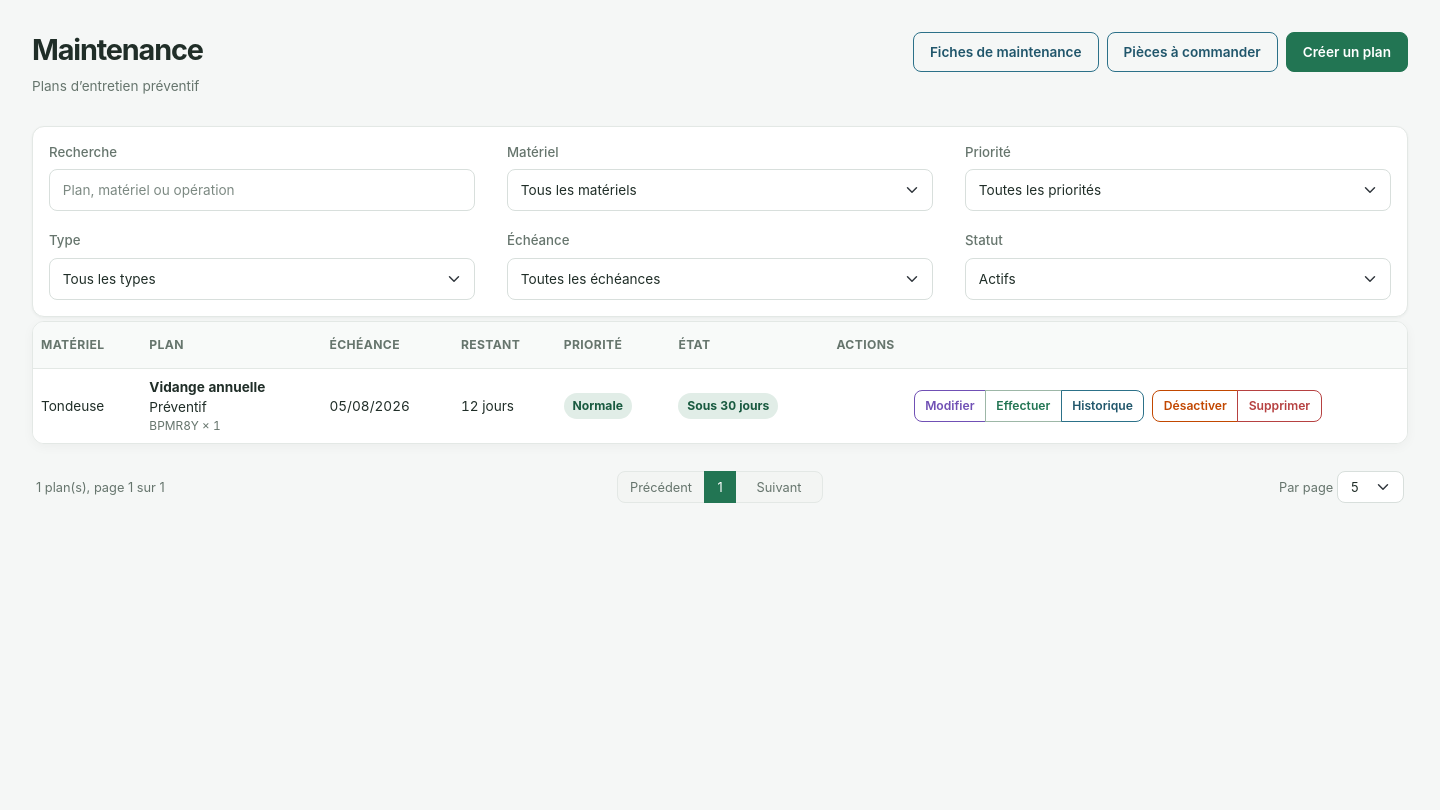
it: MaintenancePage › shows distinct supplier references when creating and editing a plan
The width and height of the screenshot is (1440, 810).
Click the button "Créer un plan" at (1347, 52), box [1286,32,1408,72]
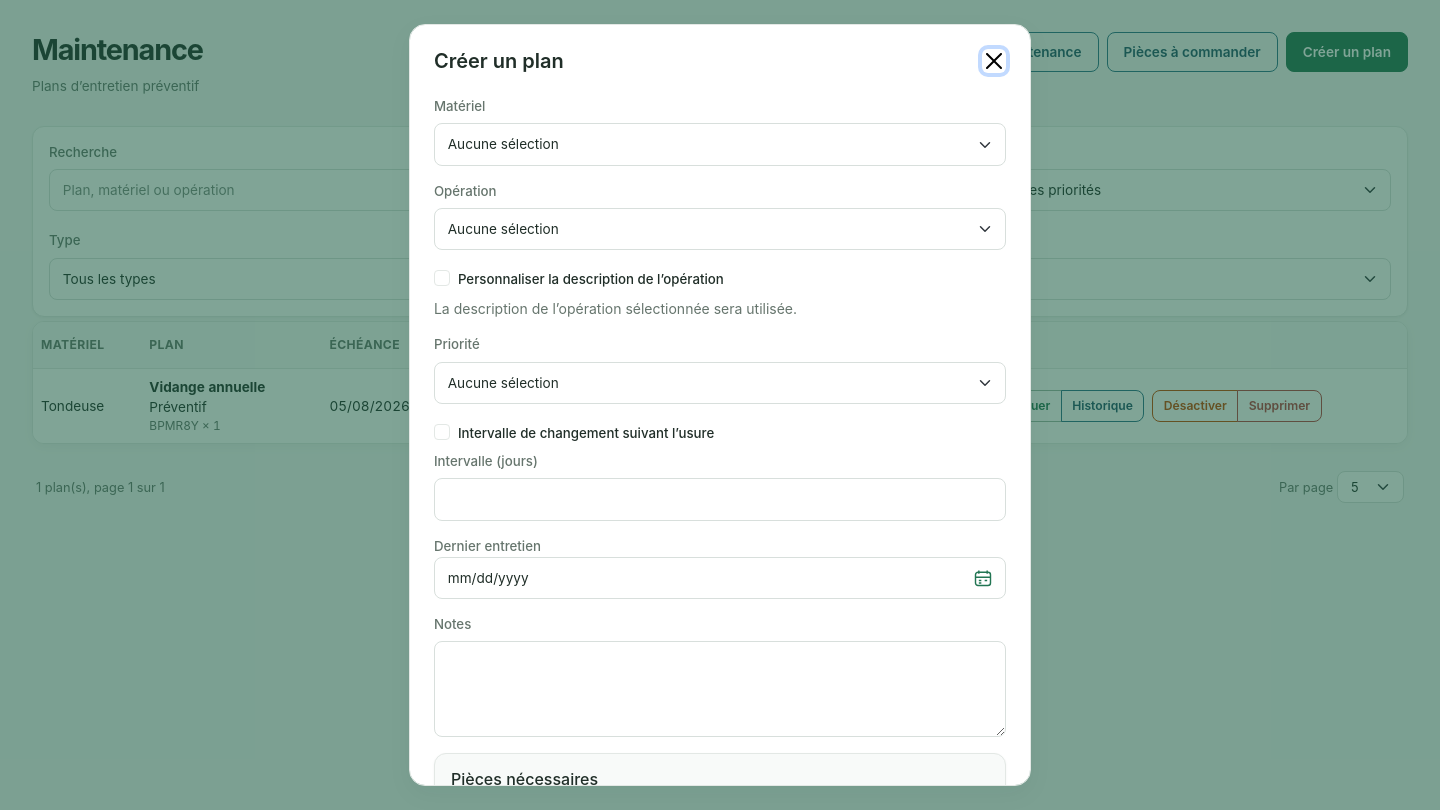
Click the button named "Fermer" at (994, 61), box [982,49,1006,73]
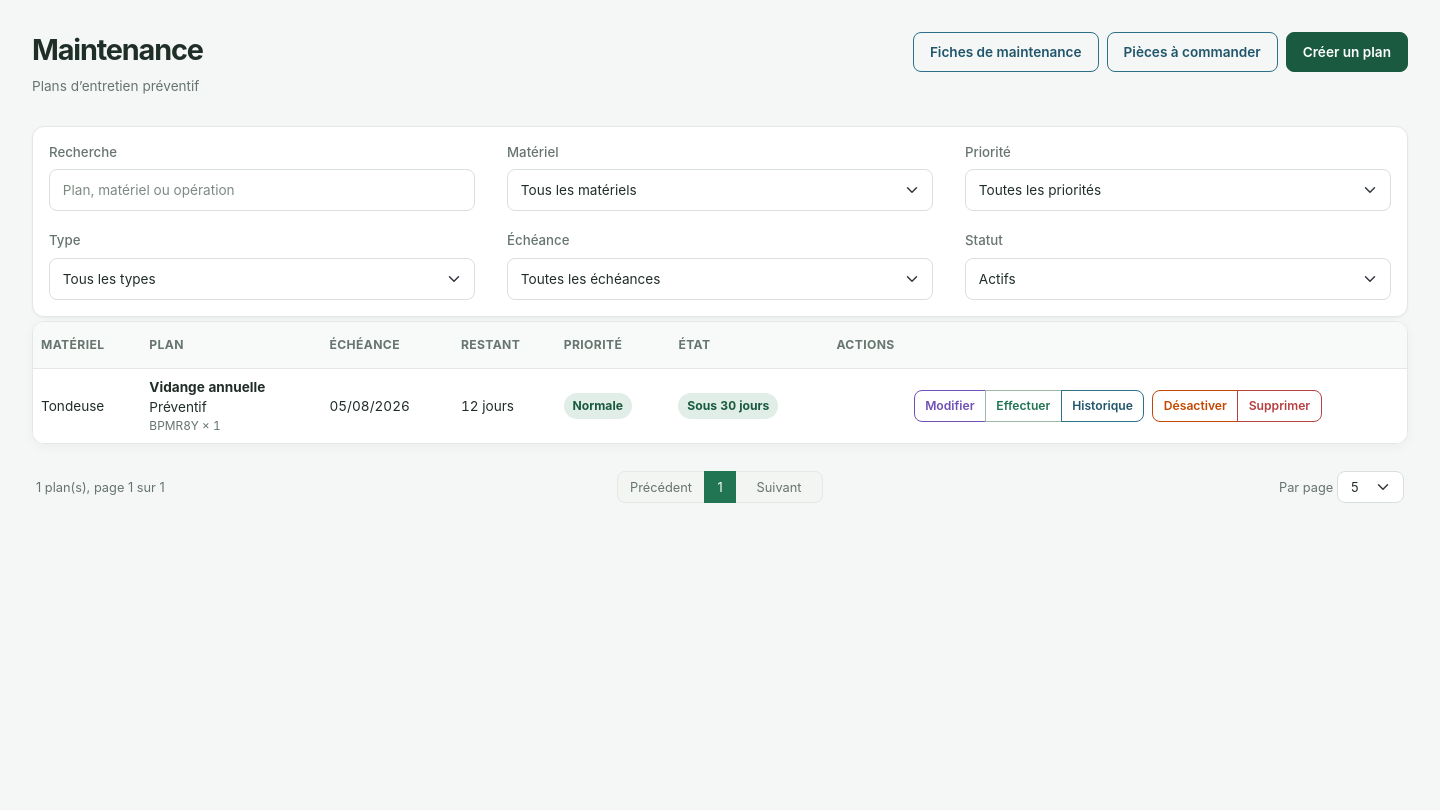
Click the button with aria-label "Modifier Vidange annuelle" at (950, 406), box [914,390,986,422]
(page scrolled)
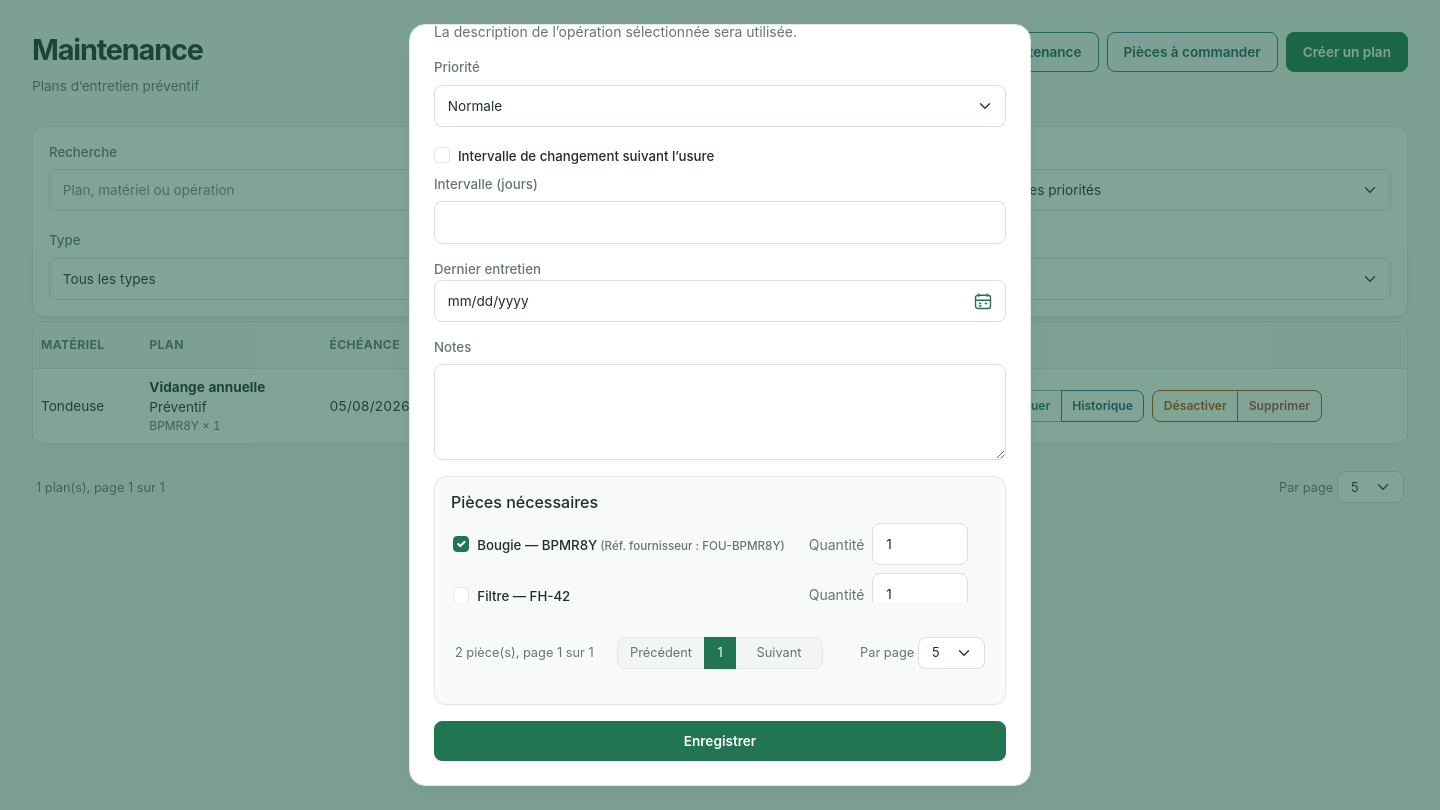
Now the text "(Réf. fournisseur : FOU-BPMR8Y)" is shown, box [597,539,785,553]
